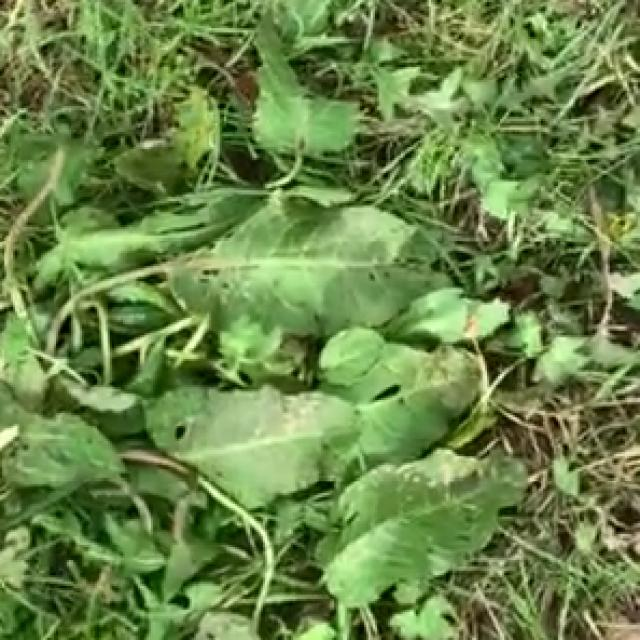organic waste: (9, 32, 558, 640)
